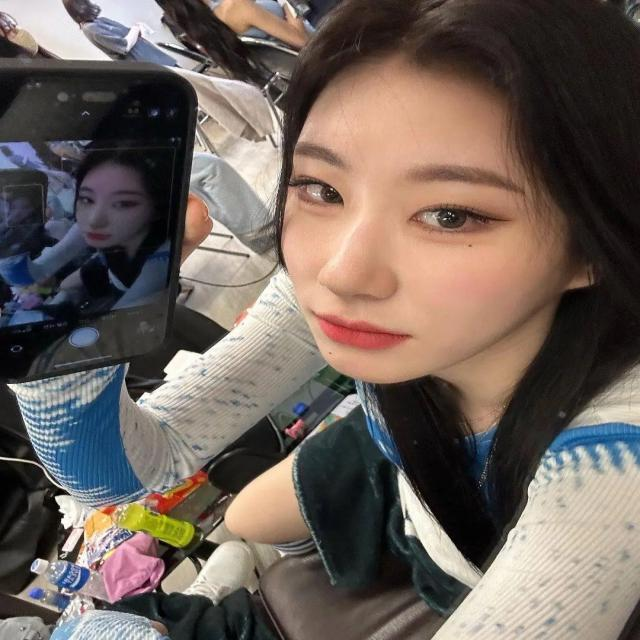mobile: (1, 65, 196, 386)
